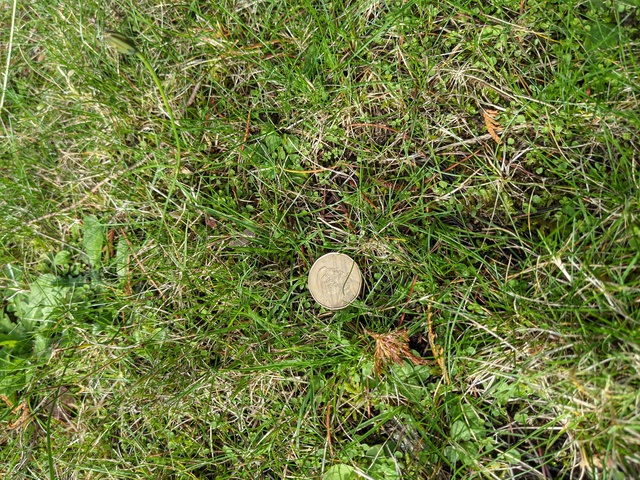loonie: (304, 249, 367, 309)
